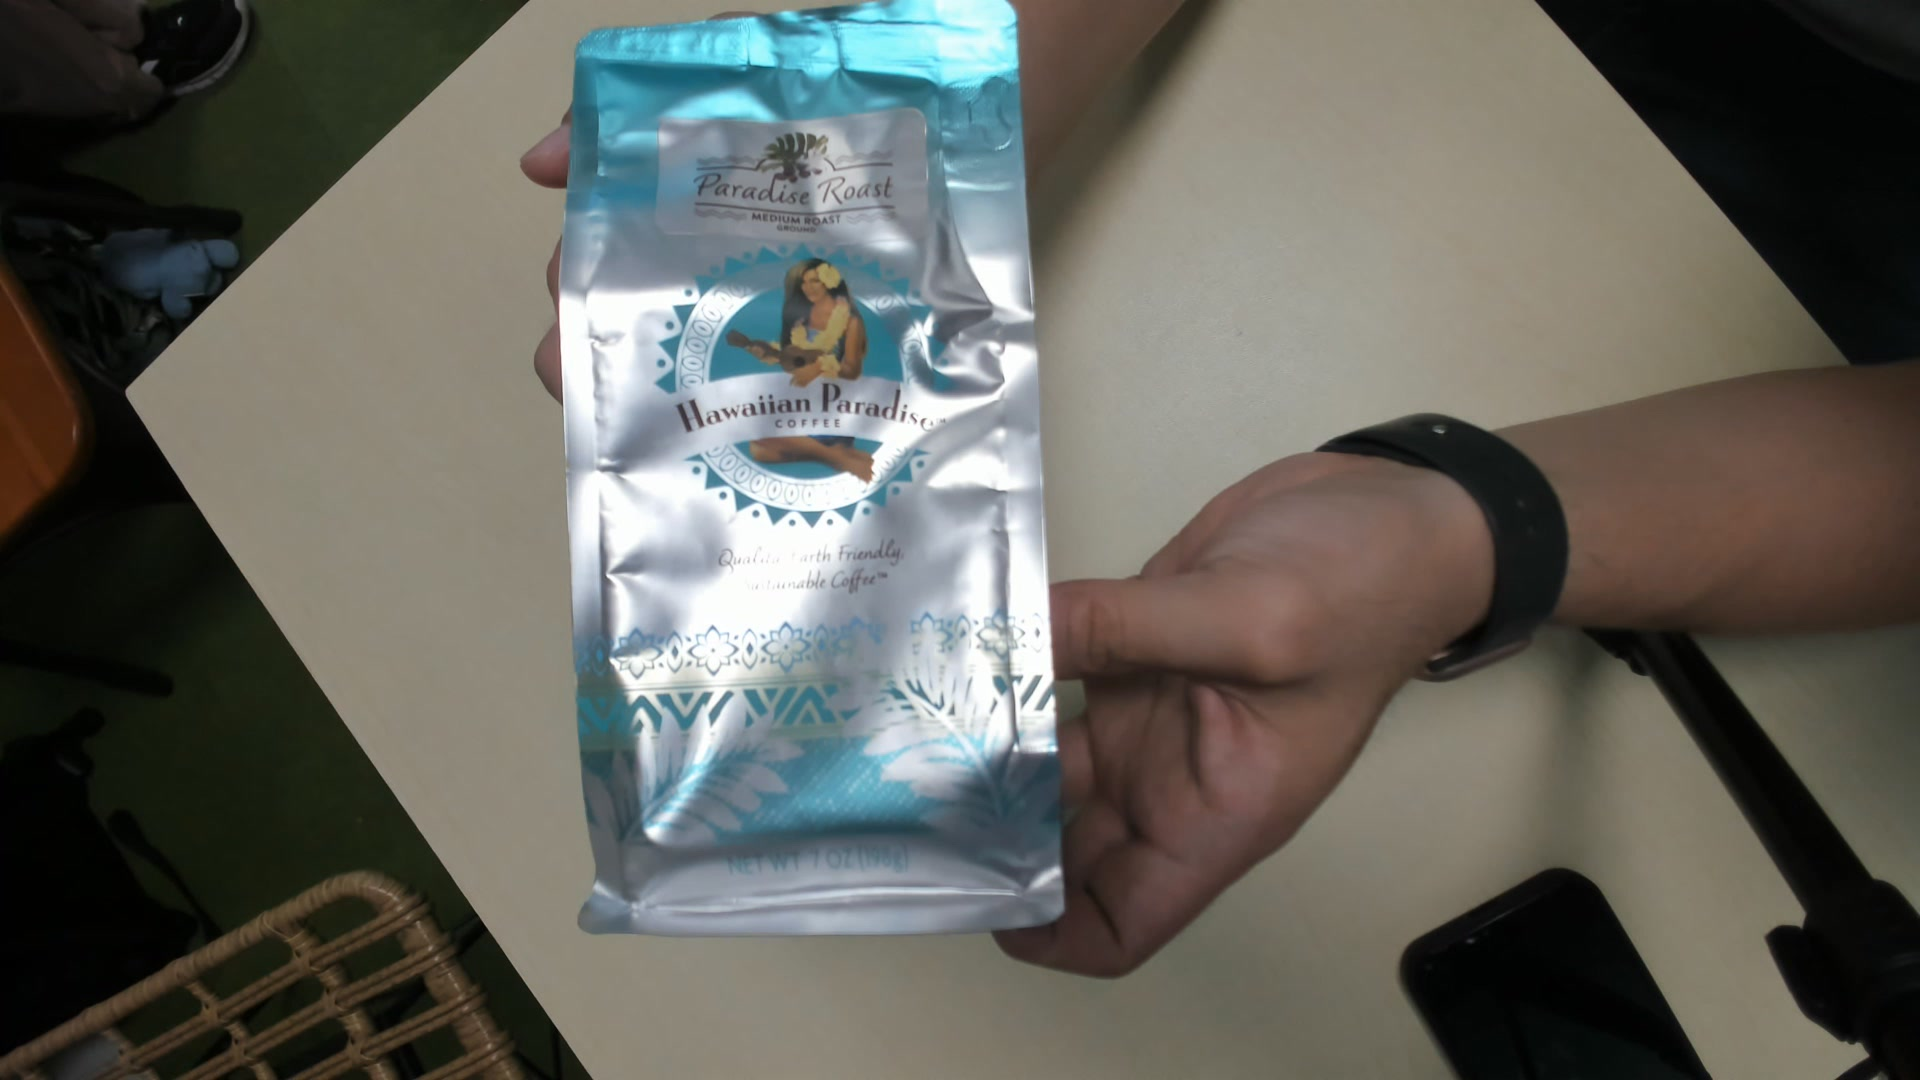Coffee_100-199g_NonHalal_NonHealthy: (568, 3, 1072, 938)
